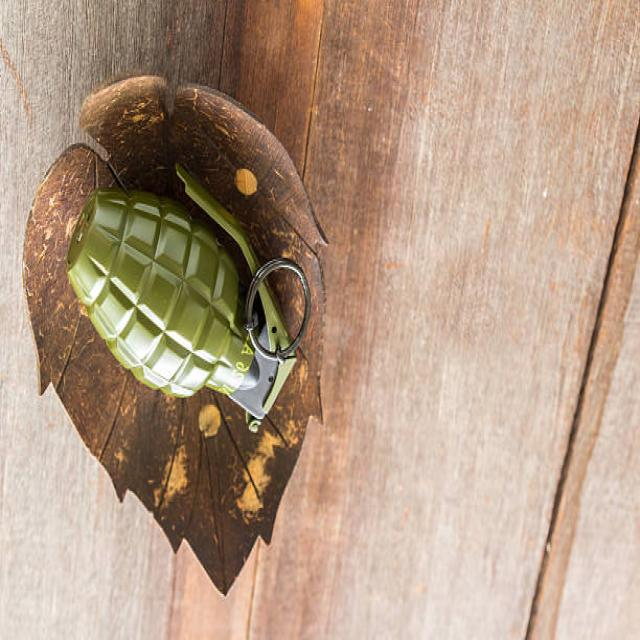grenade: (62, 160, 317, 432)
